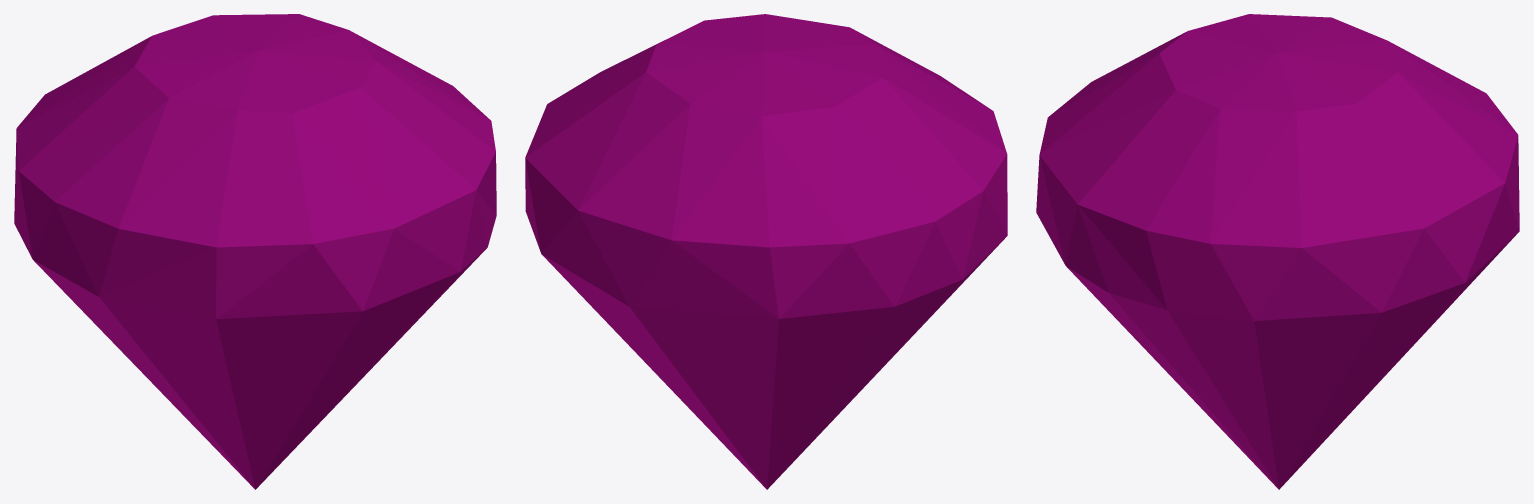
File: Gem.fbx
3 views of the same model, side by side, from view 1: azimuth 30°, elevation 25°; view 2: azimuth 150°, elevation 25°; view 3: azimuth 270°, elevation 25° (orthographic).
Visible parts, largest first — view 1: Gem; view 2: Gem; view 3: Gem.
Boxes of the visible parts, bbox=[...] form: Gem: bbox=[14, 14, 496, 489]; Gem: bbox=[525, 14, 1007, 489]; Gem: bbox=[1036, 14, 1519, 489].
Size of the model in its own units: 1 by 1 by 1.
